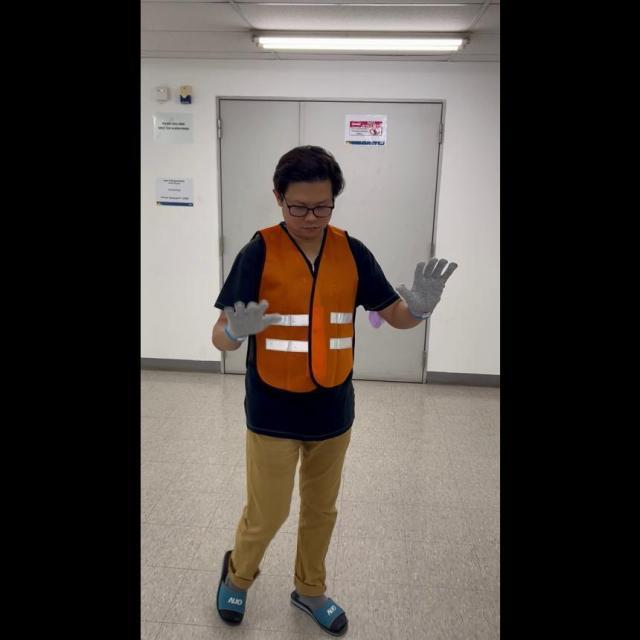gloved_hand: (394, 251, 457, 317), (219, 292, 283, 342)
